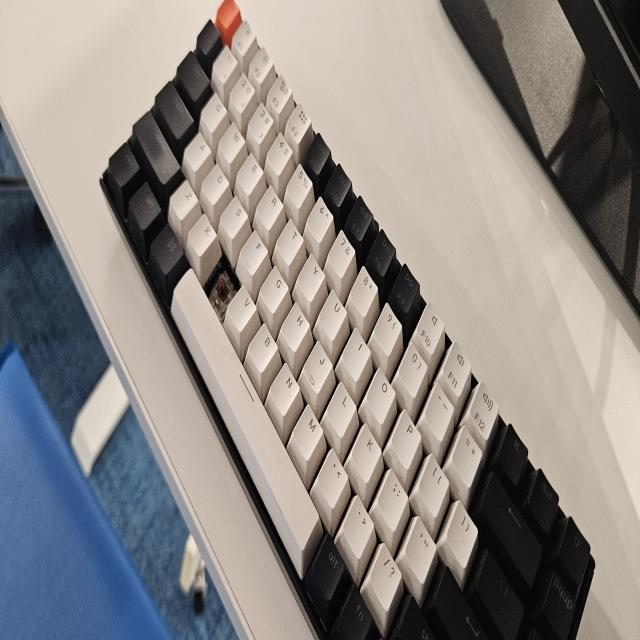C: (214, 260, 232, 296)
